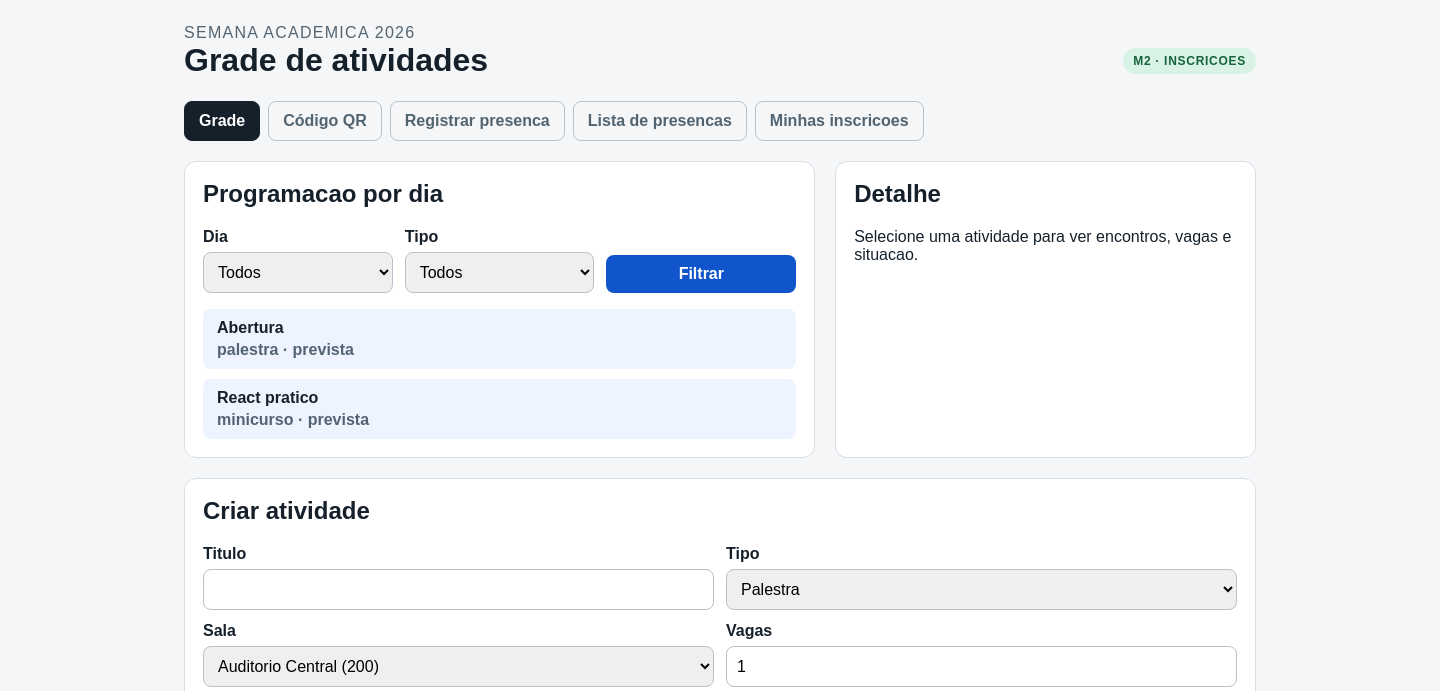
Test: M2 inscricoes › permite inscrever no detalhe da atividade
The width and height of the screenshot is (1440, 691).
Click the button "Abertura palestra · prevista" at (250, 327), box [203,309,796,369]
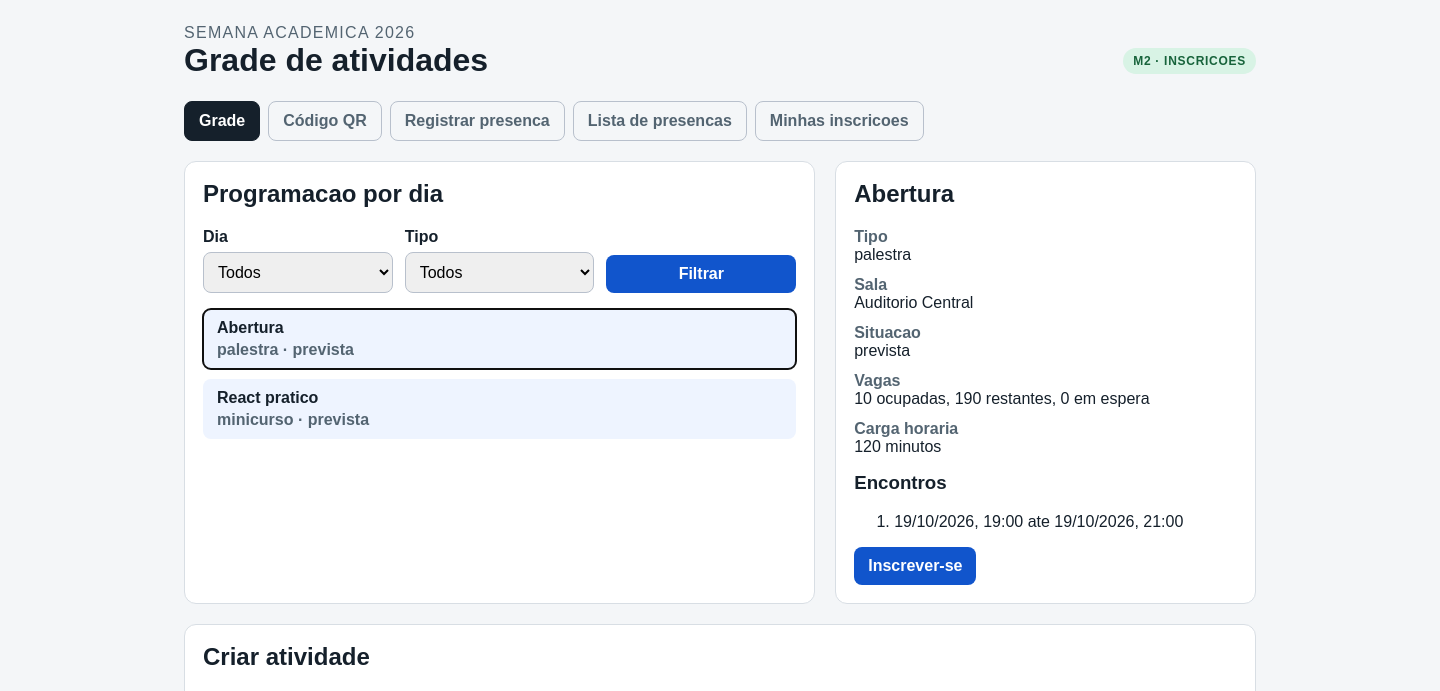
Click the button "Inscrever-se" at (915, 566), box [854,547,976,585]
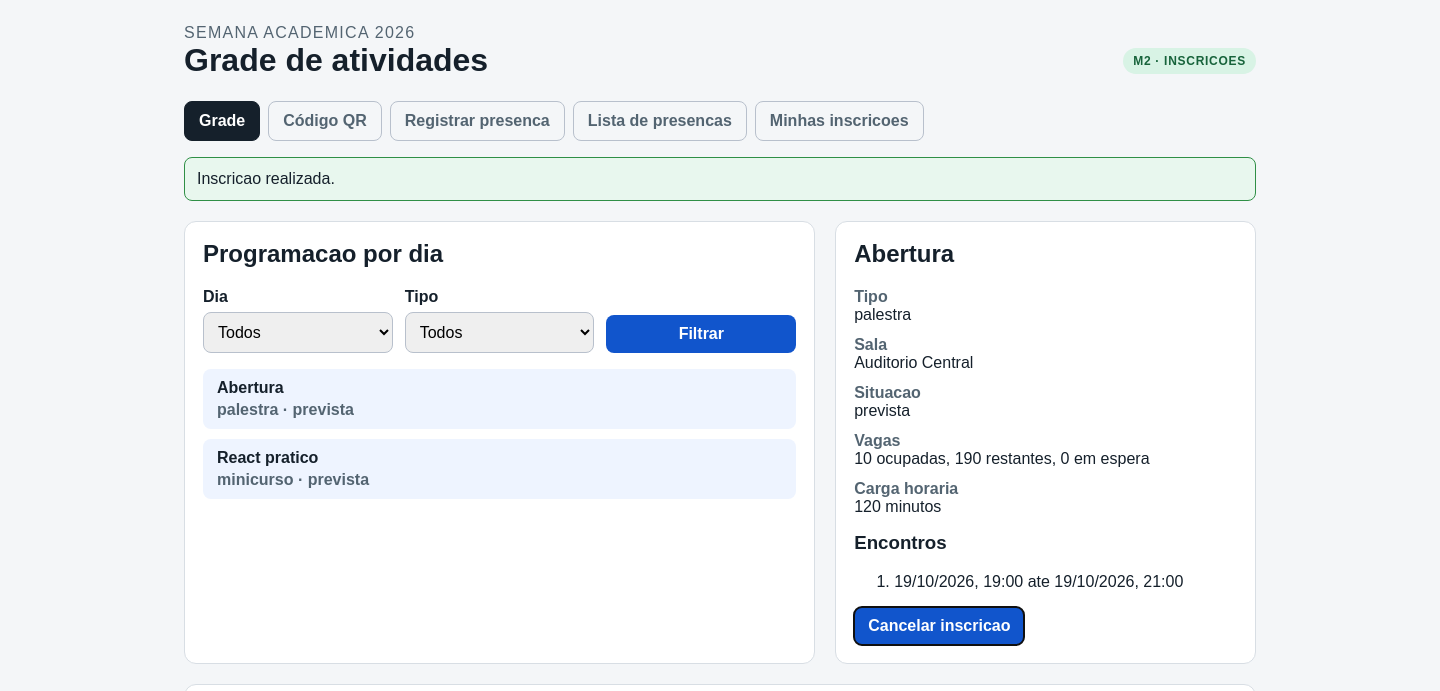
Expected: the text "Inscricao realizada." is shown, [184,157,1256,201]
